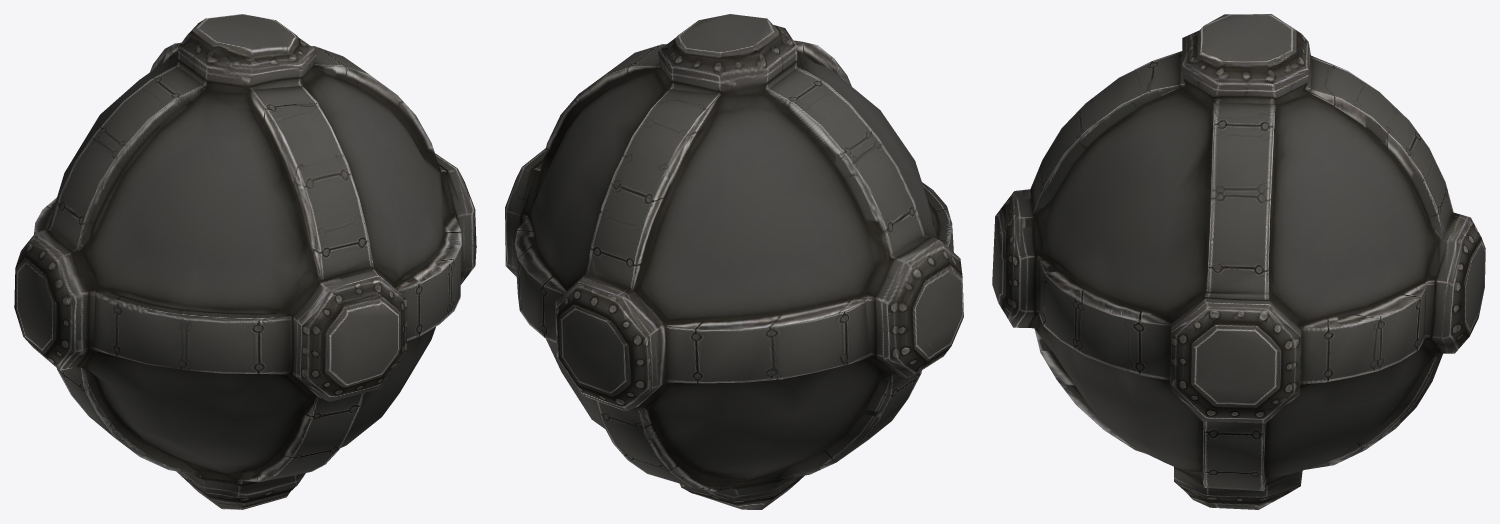
File: cold-iron-v2-hub-c-ring-cage.glb
The picture shows the model from 3 angles, left to right: view 1: azimuth 30°, elevation 25°; view 2: azimuth 150°, elevation 25°; view 3: azimuth 270°, elevation 25°; orthographic projection.
Parts seen in each view (by area): view 1: tripo_node_4419bbbe-5158-4fc2-ba31-86437907570d; view 2: tripo_node_4419bbbe-5158-4fc2-ba31-86437907570d; view 3: tripo_node_4419bbbe-5158-4fc2-ba31-86437907570d.
Part boxes in pixels (x1=…): tripo_node_4419bbbe-5158-4fc2-ba31-86437907570d: x1=14, y1=14, x2=476, y2=509; tripo_node_4419bbbe-5158-4fc2-ba31-86437907570d: x1=505, y1=14, x2=963, y2=509; tripo_node_4419bbbe-5158-4fc2-ba31-86437907570d: x1=992, y1=14, x2=1485, y2=509.
Size of the model in its own units: 0.9473 by 0.998 by 0.959.
Materials: 1 (1 with a texture image).
